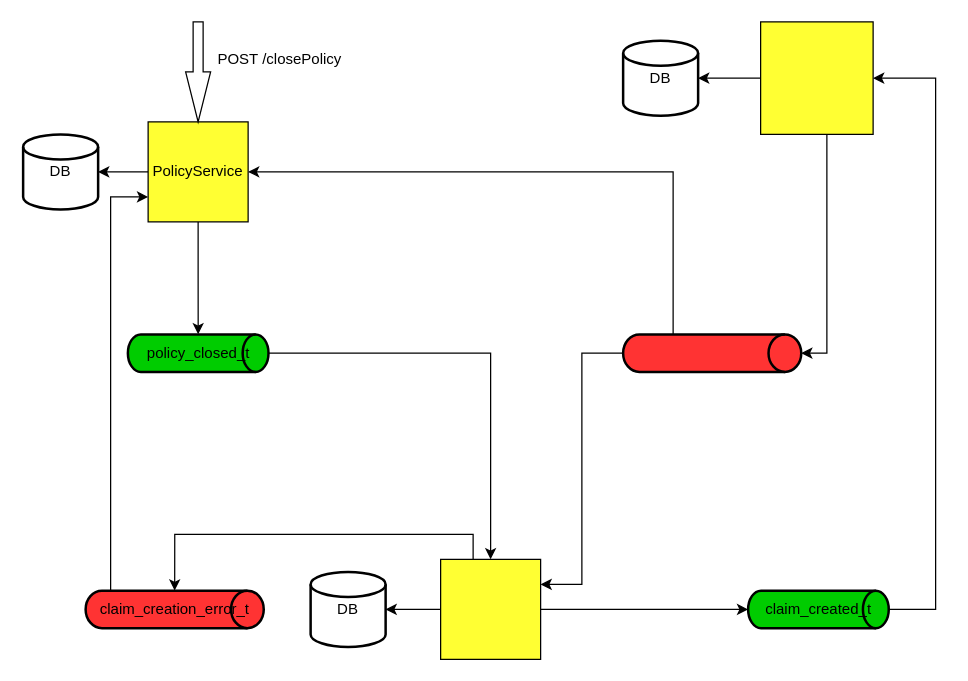
The diagram is 968 pixels wide and 681 high, and some of its shapes have lost their labels. The centre of each missing label's shape, as x and y in pixels:
"ClaimService" goes at (x=490, y=608).
"order_creation_eror_t" goes at (x=711, y=352).
"PremiumService" goes at (x=816, y=77).
